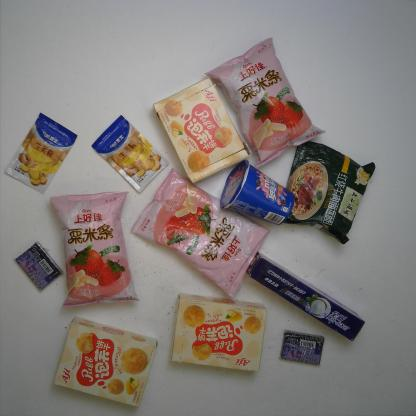Dessert: (154, 74, 256, 188), (48, 316, 161, 408), (173, 289, 275, 380), (221, 156, 295, 230)
Gum: (13, 240, 64, 294), (279, 328, 325, 367)
Instant Noodles: (285, 140, 375, 246)
Personal Hygiene: (245, 250, 366, 343)
Puffed Food: (132, 167, 268, 297), (206, 35, 333, 167), (48, 187, 142, 311)
Seasoner: (7, 110, 81, 194), (93, 114, 167, 196)
